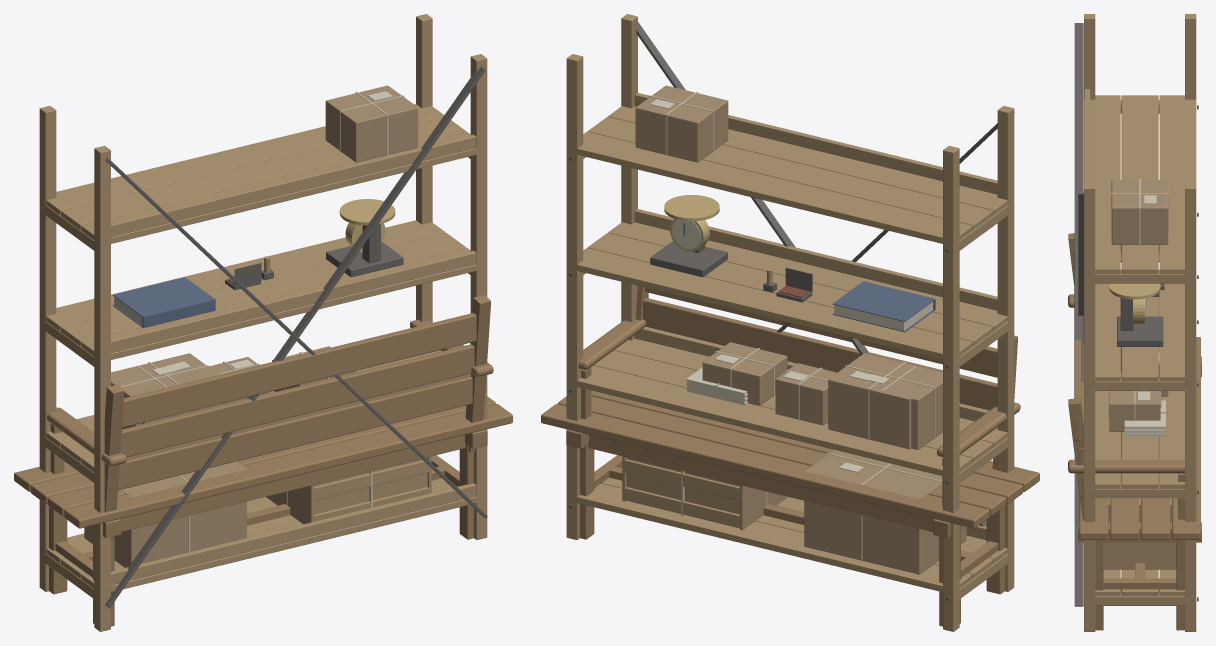
The model's file is public_furnishings.glb.
The picture shows the model from 3 angles, left to right: view 1: azimuth 30°, elevation 25°; view 2: azimuth 150°, elevation 25°; view 3: azimuth 270°, elevation 25°; orthographic projection. The views are drawn at different scales.
Parts seen in each view (by area): view 1: ParcelRack_Pine, LobbyBench_Oak, ParcelLoadEast_Kraft, ParcelRack_Iron, ParcelLoadNorth_Pine, ParcelLoadNorth_Book, ParcelLoadNorth_Iron, ParcelLoadNorth_Kraft, ParcelLoadNorth_Brass, ParcelLoadEast_Twine; view 2: ParcelRack_Pine, LobbyBench_Oak, ParcelLoadEast_Kraft, ParcelLoadNorth_Kraft, ParcelLoadNorth_Pine, ParcelLoadNorth_Paper, ParcelLoadNorth_Iron, ParcelLoadNorth_Book, ParcelRack_Iron, ParcelLoadNorth_Brass, ParcelLoadEast_Twine, ParcelLoadEast_Paper; view 3: ParcelRack_Pine, LobbyBench_Oak, ParcelLoadEast_Kraft, ParcelRack_Iron, ParcelLoadNorth_Pine, ParcelLoadNorth_Iron, ParcelLoadNorth_Brass, ParcelLoadNorth_Paper, ParcelLoadEast_Twine, ParcelLoadEast_Paper.
Part boxes in pixels (box(x1,y1,x2,y2)): ParcelRack_Pine: box(39, 14, 487, 631); LobbyBench_Oak: box(14, 295, 512, 626); ParcelLoadEast_Kraft: box(84, 85, 418, 567); ParcelRack_Iron: box(105, 66, 487, 608); ParcelLoadNorth_Pine: box(264, 256, 431, 524); ParcelLoadNorth_Book: box(113, 277, 215, 328); ParcelLoadNorth_Iron: box(225, 224, 403, 290); ParcelLoadNorth_Kraft: box(111, 353, 225, 424); ParcelLoadNorth_Brass: box(339, 199, 395, 252); ParcelLoadEast_Twine: box(120, 92, 404, 552); ParcelRack_Pine: box(566, 14, 1014, 631); LobbyBench_Oak: box(541, 286, 1039, 626); ParcelLoadEast_Kraft: box(635, 85, 966, 574); ParcelLoadNorth_Kraft: box(828, 353, 942, 449); ParcelLoadNorth_Pine: box(622, 268, 787, 530); ParcelLoadNorth_Paper: box(672, 220, 933, 405); ParcelLoadNorth_Iron: box(650, 223, 812, 302); ParcelLoadNorth_Book: box(832, 281, 935, 332); ParcelRack_Iron: box(569, 22, 1014, 600); ParcelLoadNorth_Brass: box(664, 195, 719, 251); ParcelLoadEast_Twine: box(649, 92, 942, 561); ParcelLoadEast_Paper: box(650, 99, 889, 472); ParcelRack_Pine: box(1084, 14, 1196, 631); LobbyBench_Oak: box(1068, 233, 1201, 630); ParcelLoadEast_Kraft: box(1109, 180, 1168, 431); ParcelRack_Iron: box(1074, 23, 1198, 606); ParcelLoadNorth_Pine: box(1103, 498, 1176, 569); ParcelLoadNorth_Iron: box(1117, 283, 1164, 346); ParcelLoadNorth_Brass: box(1109, 283, 1160, 325); ParcelLoadNorth_Paper: box(1120, 252, 1165, 437); ParcelLoadEast_Twine: box(1108, 179, 1168, 420); ParcelLoadEast_Paper: box(1138, 195, 1159, 400).
Bounding box in the file's own units: 1.8 × 1.9 × 0.52.
